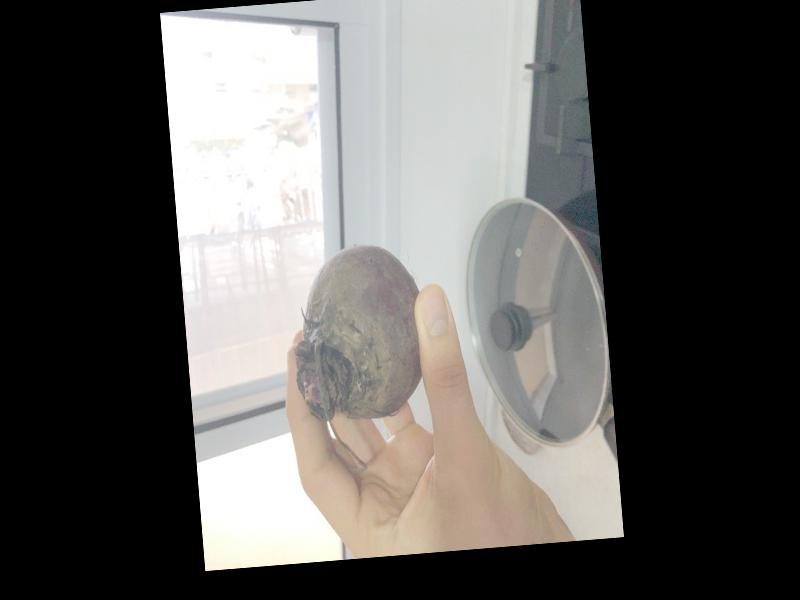Beet: (285, 240, 434, 474)
